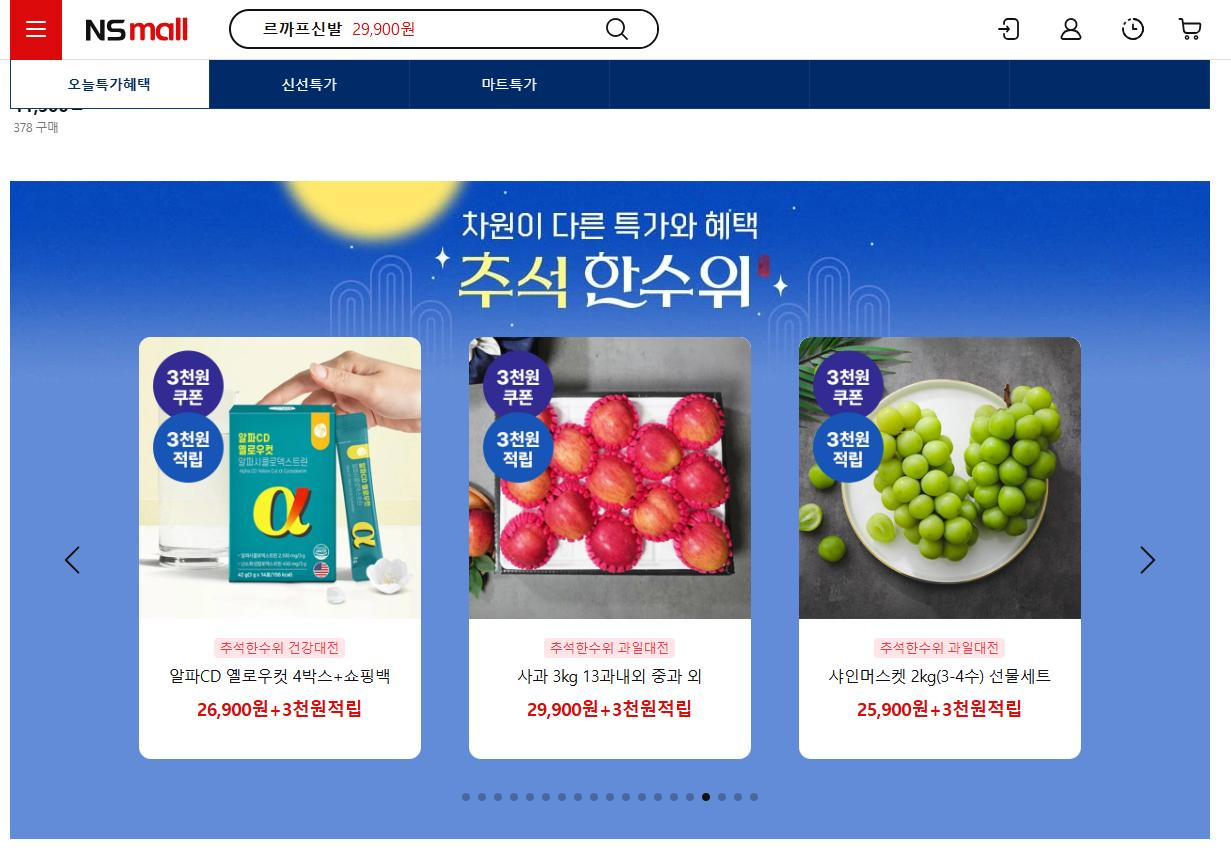button: (9, 64, 208, 104), (436, 65, 604, 104), (226, 68, 390, 105), (1129, 541, 1164, 578), (1121, 14, 1161, 41), (60, 541, 95, 570), (1054, 16, 1090, 41), (997, 19, 1038, 40), (1175, 11, 1202, 38)
input_field: (236, 10, 661, 44)
